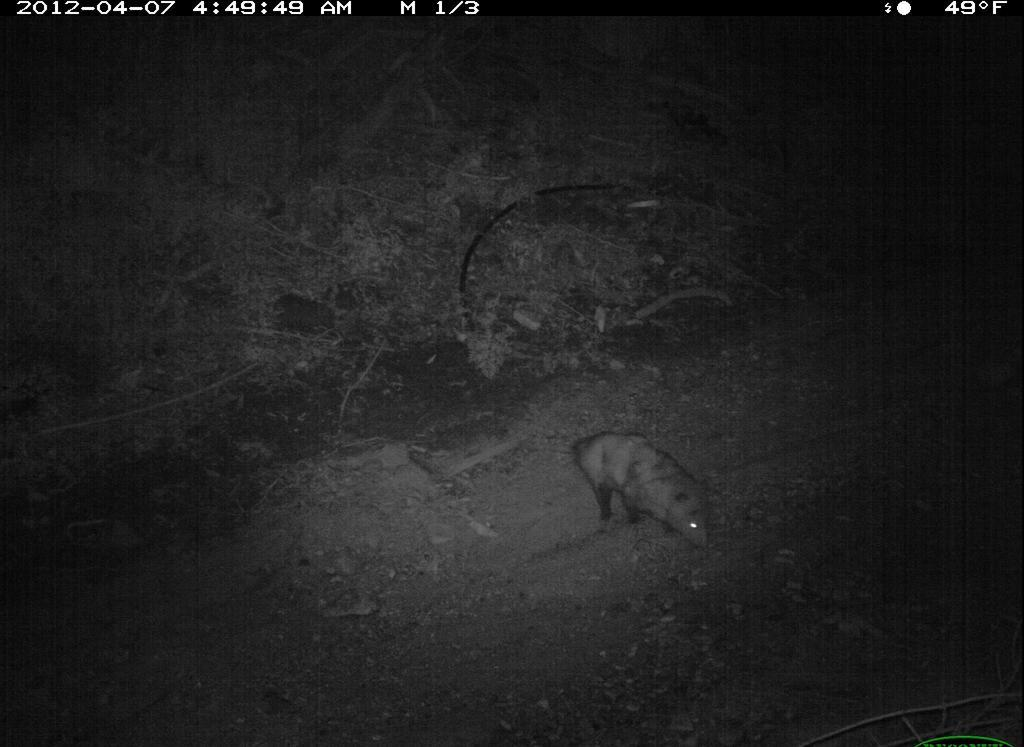opossum: (505, 422, 726, 570)
